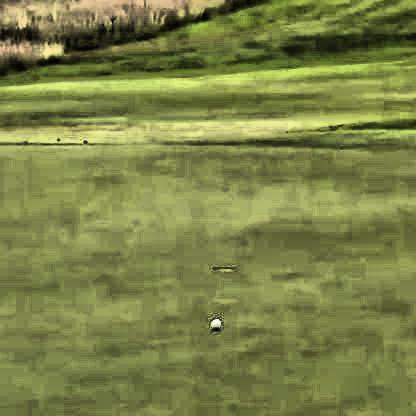golfball: (208, 316, 219, 328)
